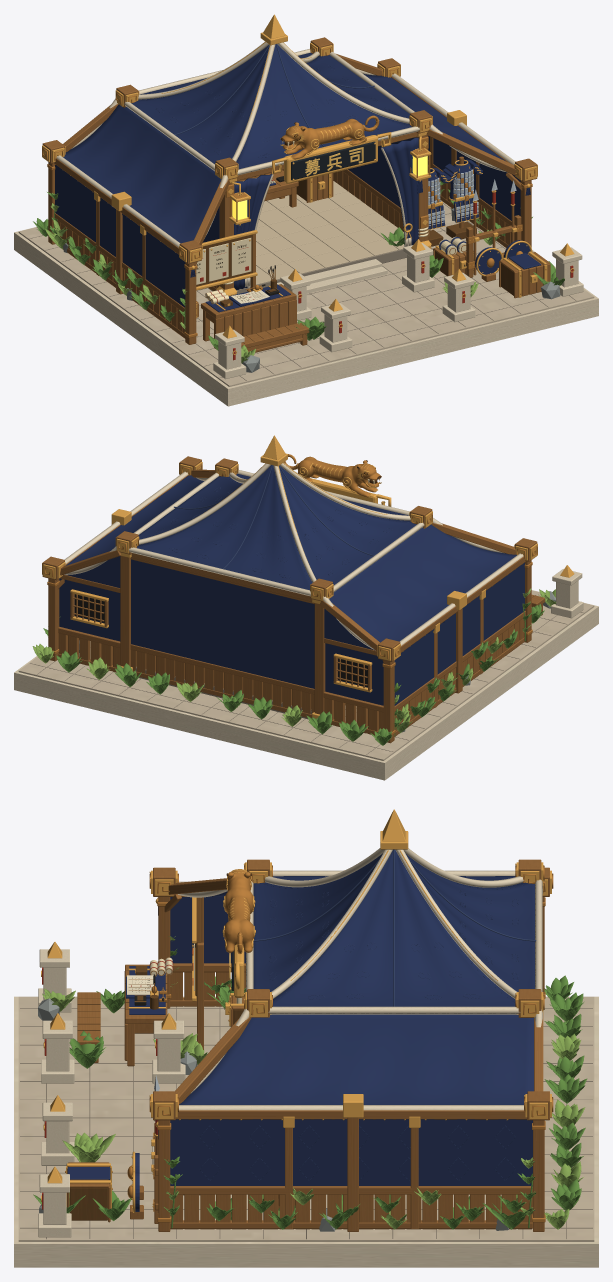
Rendered from recruitment-lod0-3ea35540f29c.glb.
3 renders of one model, top to bottom at view 1: azimuth 30°, elevation 25°; view 2: azimuth 150°, elevation 25°; view 3: azimuth 270°, elevation 25°, orthographic. The views are drawn at different scales.
Visible parts, largest first — view 1: SM_MB_Batch_6_MB_MAT_indigo_cloth.005, SM_MB_Batch_0_MB_MAT_ivory.005, SM_MB_Batch_3_MB_MAT_ochre_wood.005, SM_MB_Batch_1_MB_MAT_paving.005, SM_MB_Batch_23_MB_MAT_warm_stone_tile.003, SM_MB_Batch_4_MB_MAT_antique_gold.005, SM_MB_Batch_15_MB_MAT_tiger_bronze.005, SM_MB_Batch_21_MB_MAT_paper_leaf.003, SM_MB_Batch_2_MB_MAT_warm_mortar.005, SM_MB_Batch_13_MB_MAT_parchment.005, SM_MB_Batch_17_MB_MAT_dark_wood.005, SM_MB_Batch_19_MB_MAT_plaque_dark_lacquer.003 (+5 smaller); view 2: SM_MB_Batch_6_MB_MAT_indigo_cloth.005, SM_MB_Batch_3_MB_MAT_ochre_wood.005, SM_MB_Batch_0_MB_MAT_ivory.005, SM_MB_Batch_1_MB_MAT_paving.005, SM_MB_Batch_4_MB_MAT_antique_gold.005, SM_MB_Batch_21_MB_MAT_paper_leaf.003, SM_MB_Batch_15_MB_MAT_tiger_bronze.005, SM_MB_Batch_24_MB_MAT_paper_leaf_light.003, SM_MB_Batch_2_MB_MAT_warm_mortar.005, SM_MB_Batch_12_MB_MAT_recess.005, SM_MB_Batch_8_MB_MAT_indigo_seam.005; view 3: SM_MB_Batch_6_MB_MAT_indigo_cloth.005, SM_MB_Batch_0_MB_MAT_ivory.005, SM_MB_Batch_3_MB_MAT_ochre_wood.005, SM_MB_Batch_1_MB_MAT_paving.005, SM_MB_Batch_21_MB_MAT_paper_leaf.003, SM_MB_Batch_4_MB_MAT_antique_gold.005, SM_MB_Batch_24_MB_MAT_paper_leaf_light.003, SM_MB_Batch_15_MB_MAT_tiger_bronze.005, SM_MB_Batch_2_MB_MAT_warm_mortar.005, SM_MB_Batch_17_MB_MAT_dark_wood.005, SM_MB_Batch_8_MB_MAT_indigo_seam.005, SM_MB_Batch_20_MB_MAT_rock.003 (+1 smaller).
Part boxes in pixels (x1,y1,x2,y2): SM_MB_Batch_6_MB_MAT_indigo_cloth.005: [55, 44, 541, 312]; SM_MB_Batch_0_MB_MAT_ivory.005: [14, 42, 598, 406]; SM_MB_Batch_3_MB_MAT_ochre_wood.005: [42, 37, 550, 352]; SM_MB_Batch_1_MB_MAT_paving.005: [18, 200, 594, 386]; SM_MB_Batch_23_MB_MAT_warm_stone_tile.003: [249, 181, 404, 286]; SM_MB_Batch_4_MB_MAT_antique_gold.005: [42, 14, 574, 354]; SM_MB_Batch_15_MB_MAT_tiger_bronze.005: [42, 45, 546, 337]; SM_MB_Batch_21_MB_MAT_paper_leaf.003: [33, 181, 564, 350]; SM_MB_Batch_2_MB_MAT_warm_mortar.005: [29, 200, 575, 380]; SM_MB_Batch_13_MB_MAT_parchment.005: [196, 178, 466, 304]; SM_MB_Batch_17_MB_MAT_dark_wood.005: [196, 174, 513, 343]; SM_MB_Batch_19_MB_MAT_plaque_dark_lacquer.003: [291, 141, 375, 180]; SM_MB_Batch_6_MB_MAT_indigo_cloth.005: [59, 465, 524, 705]; SM_MB_Batch_3_MB_MAT_ochre_wood.005: [42, 456, 545, 743]; SM_MB_Batch_0_MB_MAT_ivory.005: [14, 462, 598, 780]; SM_MB_Batch_1_MB_MAT_paving.005: [18, 590, 594, 760]; SM_MB_Batch_4_MB_MAT_antique_gold.005: [42, 435, 574, 718]; SM_MB_Batch_21_MB_MAT_paper_leaf.003: [43, 601, 544, 745]; SM_MB_Batch_15_MB_MAT_tiger_bronze.005: [44, 454, 537, 735]; SM_MB_Batch_24_MB_MAT_paper_leaf_light.003: [32, 588, 556, 733]; SM_MB_Batch_2_MB_MAT_warm_mortar.005: [30, 612, 583, 754]; SM_MB_Batch_12_MB_MAT_recess.005: [75, 594, 367, 686]; SM_MB_Batch_8_MB_MAT_indigo_seam.005: [174, 465, 374, 569]; SM_MB_Batch_6_MB_MAT_indigo_cloth.005: [67, 850, 534, 1211]; SM_MB_Batch_0_MB_MAT_ivory.005: [14, 848, 598, 1267]; SM_MB_Batch_3_MB_MAT_ochre_wood.005: [67, 859, 549, 1231]; SM_MB_Batch_1_MB_MAT_paving.005: [18, 996, 594, 1241]; SM_MB_Batch_21_MB_MAT_paper_leaf.003: [33, 949, 587, 1229]; SM_MB_Batch_4_MB_MAT_antique_gold.005: [41, 809, 551, 1212]; SM_MB_Batch_24_MB_MAT_paper_leaf_light.003: [42, 936, 585, 1229]; SM_MB_Batch_15_MB_MAT_tiger_bronze.005: [65, 865, 553, 1222]; SM_MB_Batch_2_MB_MAT_warm_mortar.005: [20, 998, 592, 1239]; SM_MB_Batch_17_MB_MAT_dark_wood.005: [70, 897, 295, 1220]; SM_MB_Batch_8_MB_MAT_indigo_seam.005: [253, 849, 536, 1006]; SM_MB_Batch_20_MB_MAT_rock.003: [38, 998, 508, 1231].
Bounding box in the file's own units: 10 × 6.32 × 10.
Materials: 27 (4 with a texture image).
